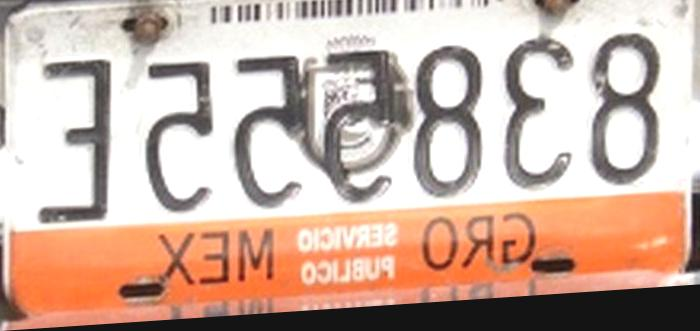License_Plate: (10, 0, 690, 321)
